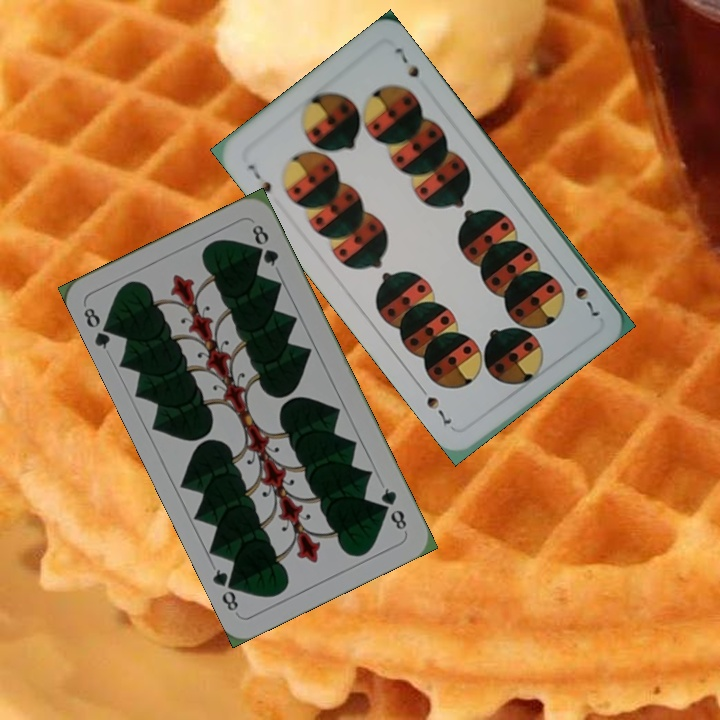G8: (79, 303, 118, 352), (377, 483, 410, 533)
S7: (562, 270, 602, 319), (243, 160, 274, 195)
